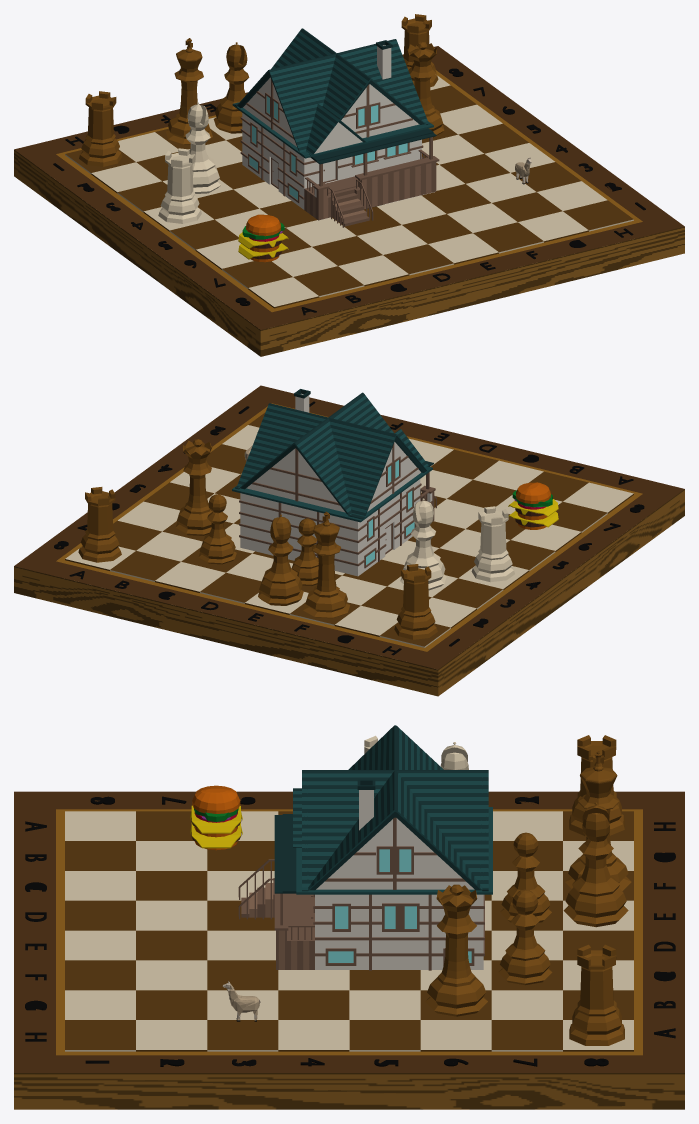
The picture shows the model from 3 angles, top to bottom: view 1: azimuth 30°, elevation 25°; view 2: azimuth 150°, elevation 25°; view 3: azimuth 270°, elevation 25°; orthographic projection. The views are drawn at different scales.
Visible parts, largest first — view 1: Cube.002, Cube.793, OBJRANDOM_HAMBURGER; view 2: Cube.002, Cube.793, OBJRANDOM_HAMBURGER; view 3: Cube.002, Cube.793, OBJRANDOM_HAMBURGER, ANIMAL_LLAMA.
Part boxes in pixels (bbox=[...]): Cube.002: bbox=[14, 14, 684, 356]; Cube.793: bbox=[232, 28, 439, 227]; OBJRANDOM_HAMBURGER: bbox=[238, 214, 288, 262]; Cube.002: bbox=[14, 385, 684, 696]; Cube.793: bbox=[232, 389, 436, 576]; OBJRANDOM_HAMBURGER: bbox=[508, 482, 558, 529]; Cube.002: bbox=[14, 735, 684, 1109]; Cube.793: bbox=[238, 725, 492, 970]; OBJRANDOM_HAMBURGER: bbox=[190, 785, 242, 850]; ANIMAL_LLAMA: bbox=[222, 981, 260, 1021].
Size of the model in its own units: 3981 by 1434 by 4012.
Materials: 23 (4 with a texture image).
